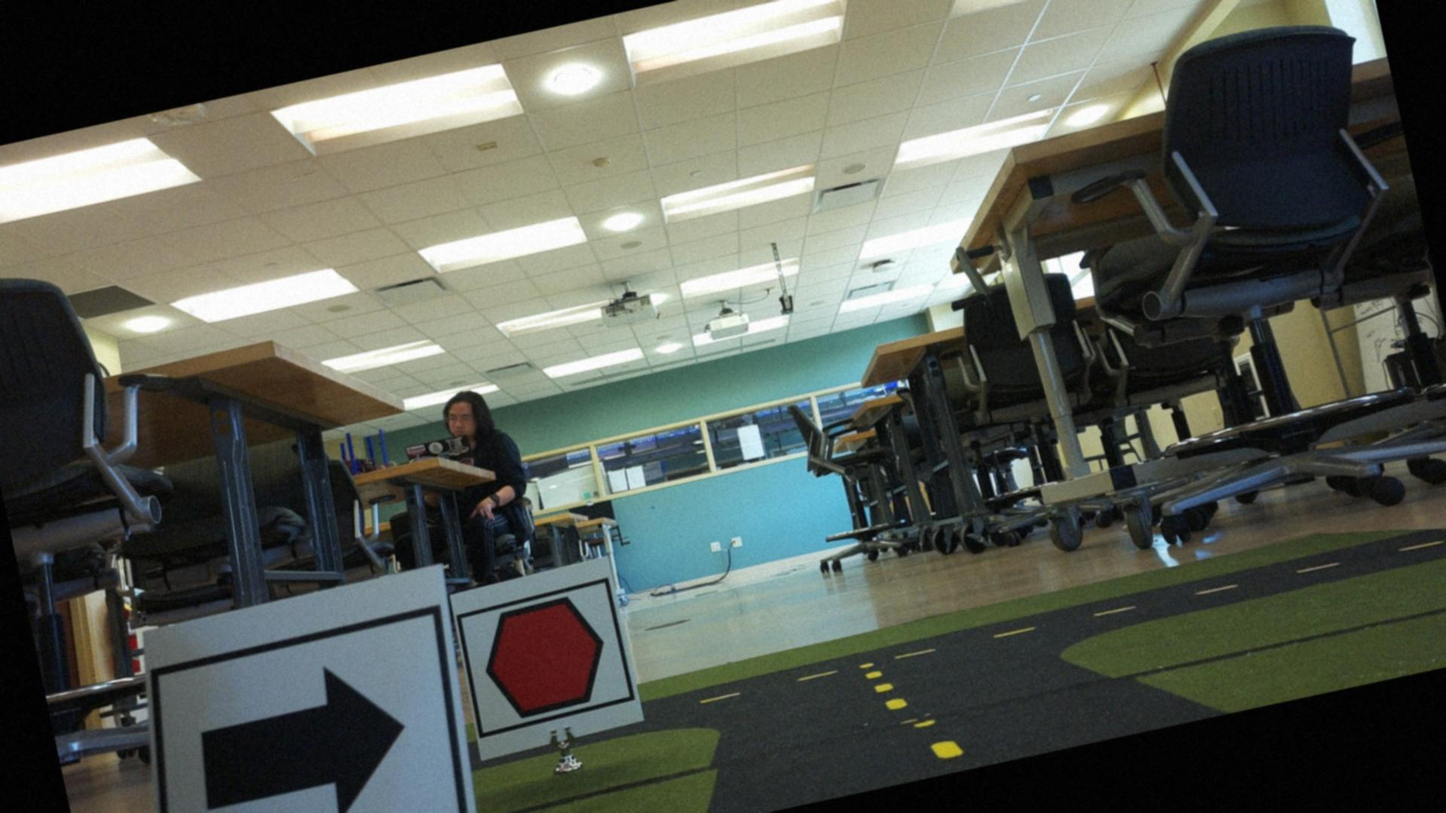stop: (459, 582, 631, 732)
turnright: (148, 611, 480, 812)
yellowline: (865, 655, 962, 775)
